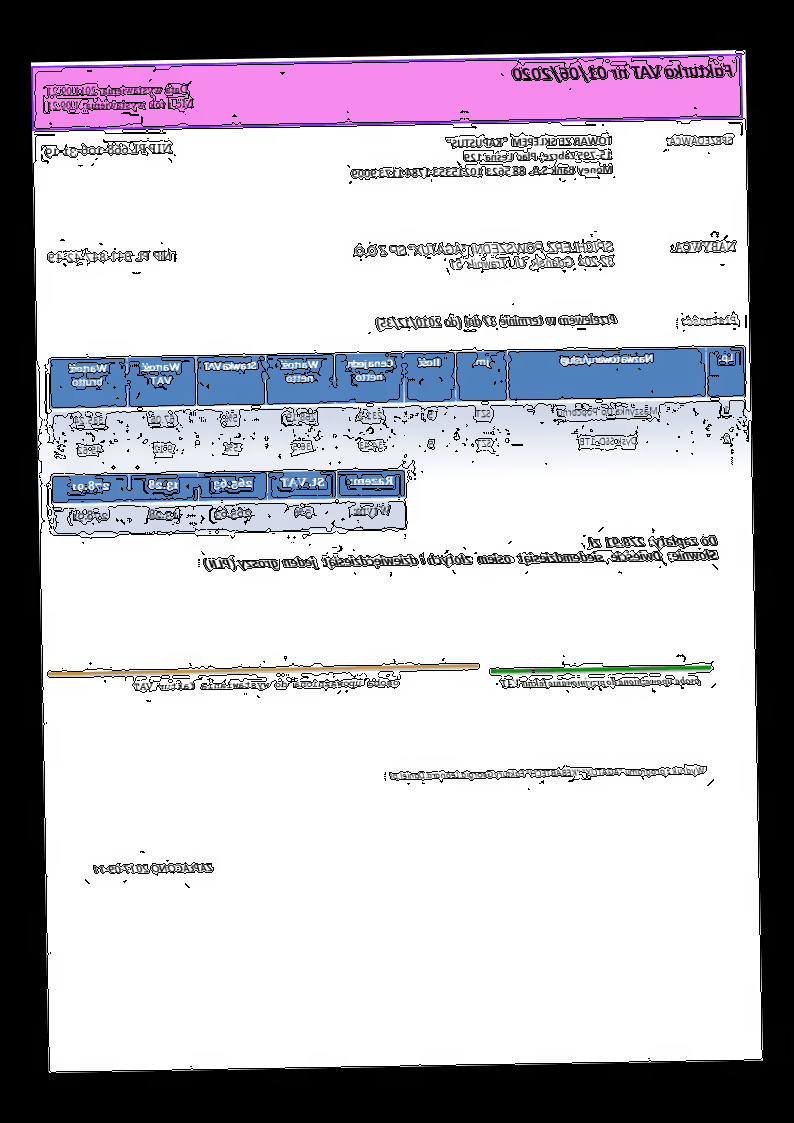Table: (48, 344, 748, 473), (50, 467, 407, 536)
TextBox: (201, 532, 720, 574), (351, 134, 616, 181), (349, 238, 617, 274), (388, 764, 706, 784), (511, 61, 735, 86), (376, 311, 619, 333), (46, 79, 197, 114), (132, 675, 401, 693), (499, 674, 702, 692), (44, 140, 176, 161), (46, 249, 173, 266), (92, 859, 215, 876), (670, 238, 738, 255), (666, 133, 735, 149), (681, 312, 739, 327)
